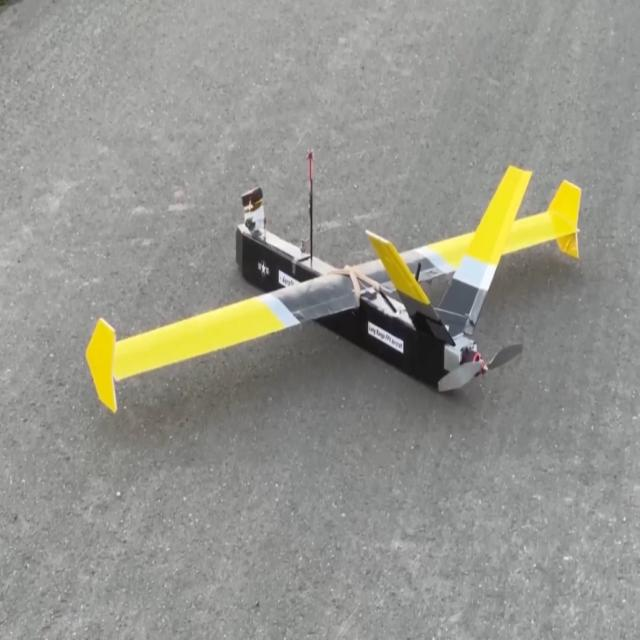iha: (87, 174, 583, 409)
